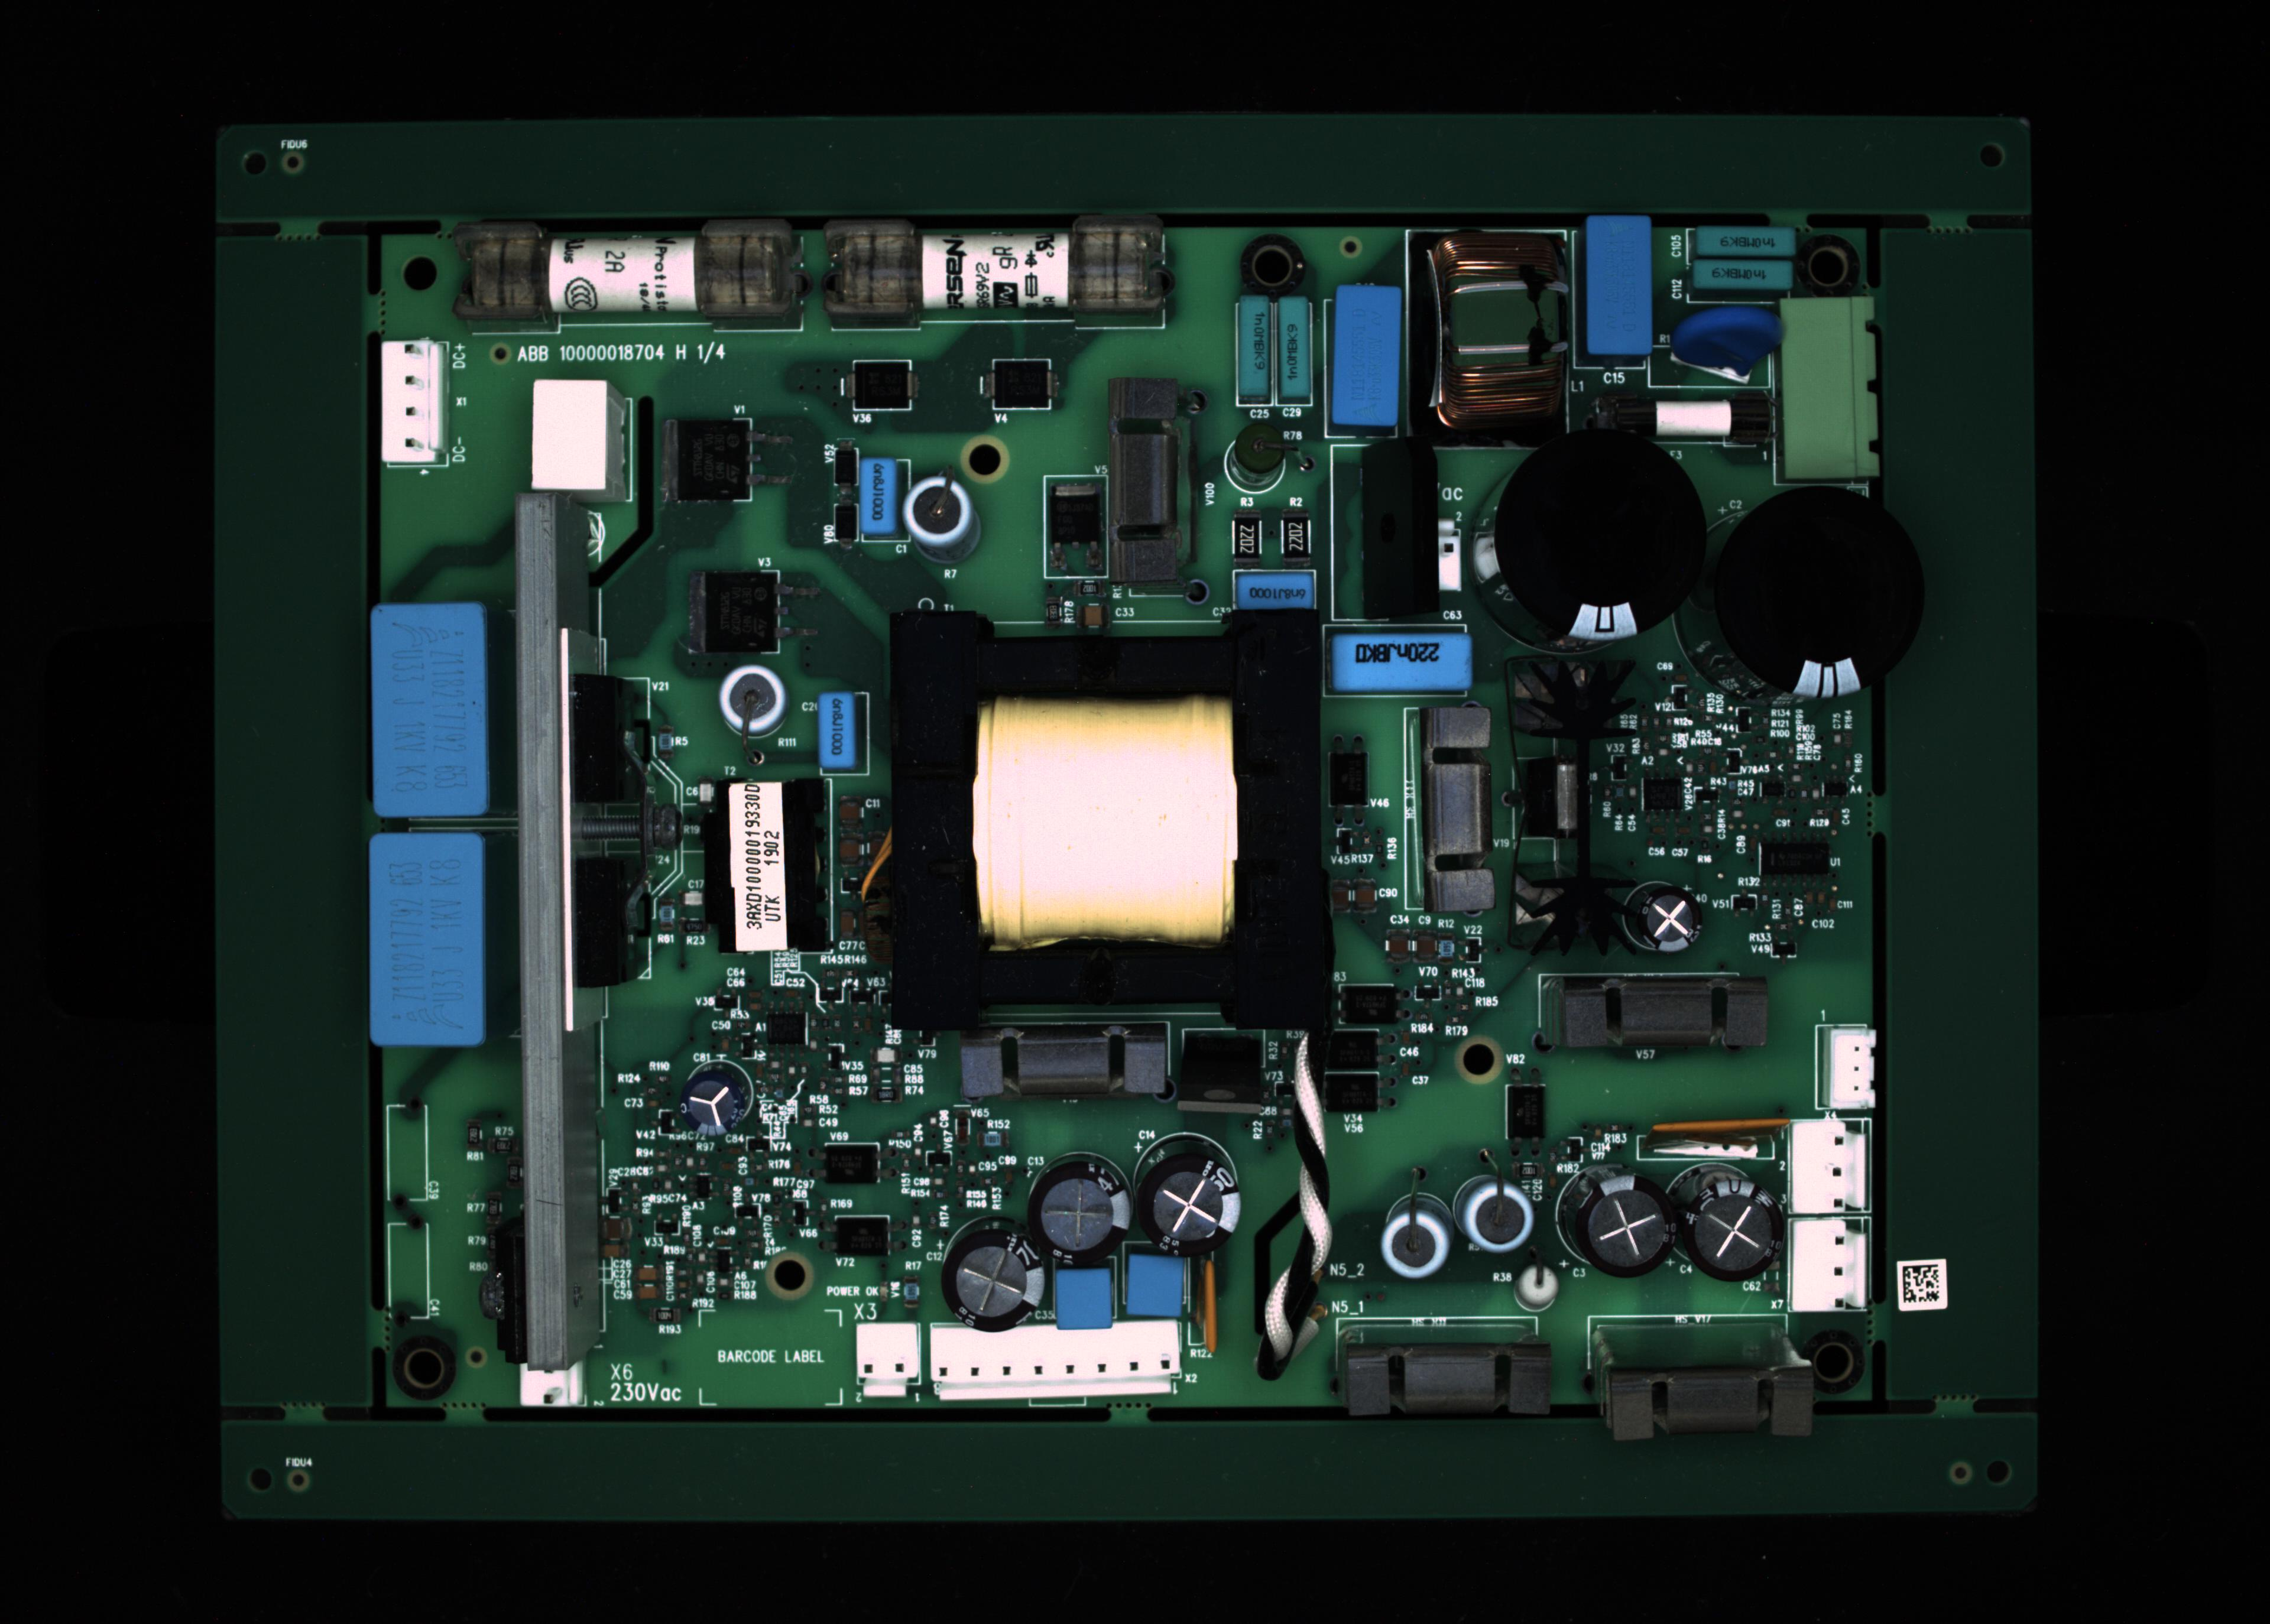10_p: (1667, 309, 1776, 373)
11_q: (1776, 297, 1880, 480)
12_r: (1591, 387, 1776, 455)
13_s: (383, 344, 443, 462)
14_t: (529, 380, 629, 503)
15_e: (862, 459, 895, 534)
16_k: (904, 475, 974, 548)
17_u: (1115, 378, 1182, 580)
18_v: (1238, 573, 1317, 610)
19_w: (1335, 631, 1472, 691)
1_a: (473, 216, 823, 327)
20_f: (1442, 517, 1459, 589)
21_g: (1495, 425, 1709, 643)
22_g: (1714, 489, 1925, 701)
23_h: (367, 601, 492, 817)
24_h: (369, 830, 480, 1046)
25_f: (520, 1360, 584, 1408)
26_f: (856, 1323, 921, 1397)
27_x: (932, 1322, 1183, 1404)
28_i: (1138, 1151, 1241, 1253)
29_i: (1027, 1156, 1134, 1267)
2_a: (819, 216, 1175, 320)
30_i: (941, 1225, 1048, 1332)
31_j: (1048, 1265, 1115, 1330)
32_j: (1125, 1250, 1187, 1322)
33_e: (819, 692, 855, 768)
34_k: (1377, 1209, 1454, 1278)
35_k: (1461, 1178, 1533, 1253)
36_i: (1577, 1172, 1681, 1280)
37_i: (1683, 1176, 1786, 1281)
38_l: (1342, 1343, 1560, 1415)
39_l: (1605, 1369, 1808, 1438)
3_b: (1241, 299, 1270, 402)
40_l: (1546, 979, 1771, 1044)
41_y: (1407, 705, 1496, 914)
42_z: (1825, 1028, 1876, 1111)
43_m: (1792, 1120, 1866, 1214)
44_m: (1792, 1222, 1866, 1309)
45_i: (680, 1063, 749, 1134)
46_n: (1338, 982, 1394, 1023)
47_n: (826, 1142, 879, 1185)
48_n: (837, 1214, 893, 1257)
49_aa: (768, 1011, 809, 1046)
4_b: (1280, 299, 1313, 402)
50_n: (1321, 1032, 1377, 1070)
51_n: (1322, 1070, 1375, 1109)
52_ab: (1329, 750, 1370, 808)
53_ac: (1656, 1130, 1790, 1165)
54_ad: (1194, 1253, 1222, 1364)
55_l: (965, 1032, 1166, 1102)
56_ae: (1183, 1032, 1264, 1104)
57_af: (1509, 647, 1635, 951)
58_i: (1633, 884, 1706, 958)
59_o: (993, 360, 1050, 410)
5_c: (1331, 286, 1405, 425)
60_o: (853, 362, 911, 410)
6_6: (1405, 232, 1572, 452)
7_c: (1584, 216, 1648, 352)
8_d: (1693, 223, 1792, 260)
9_d: (1695, 262, 1793, 290)
